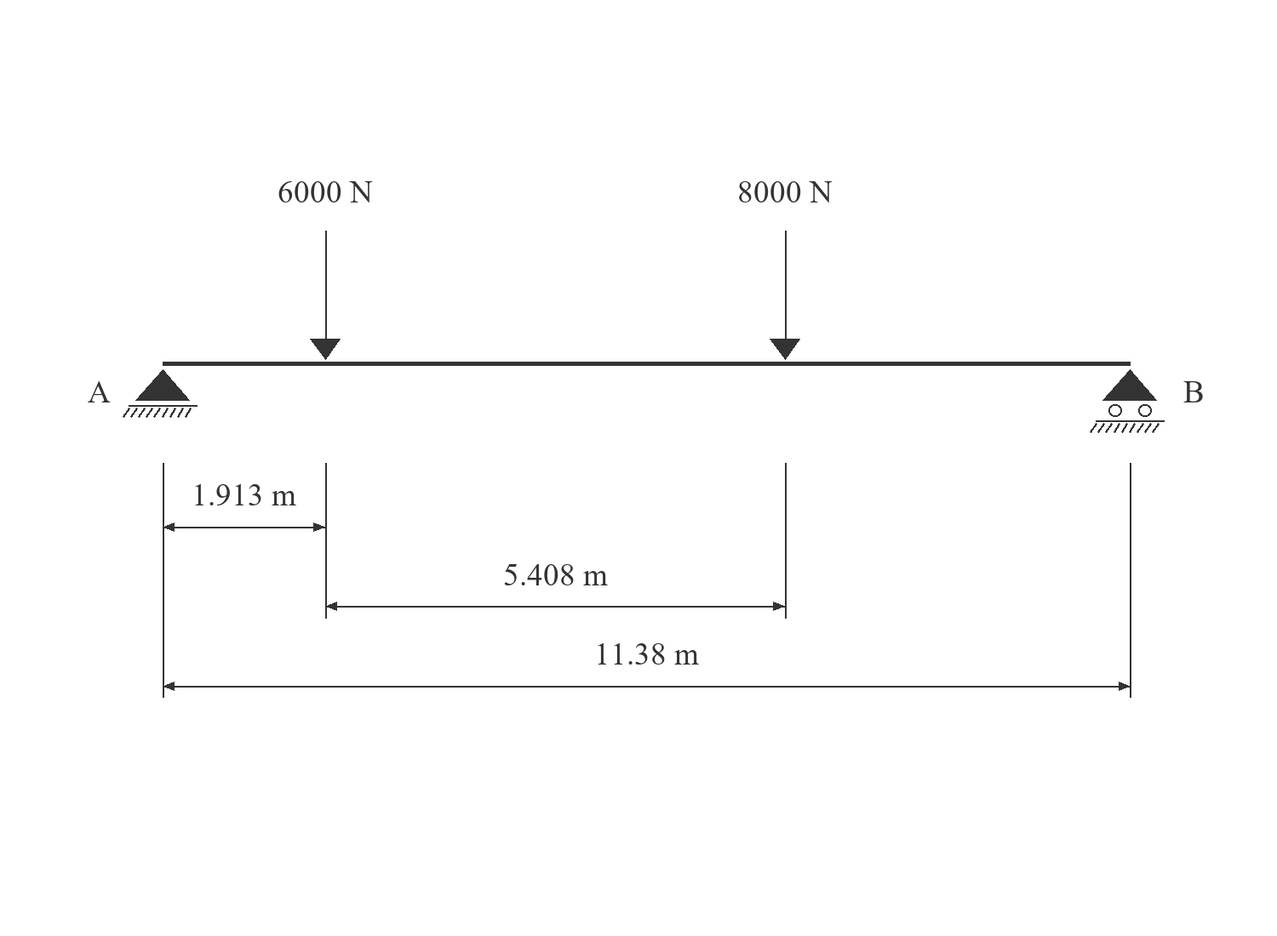pin_support: (123, 369, 198, 418)
point_load: (310, 231, 341, 360), (770, 231, 800, 360)
roller_support: (1090, 369, 1165, 433)
